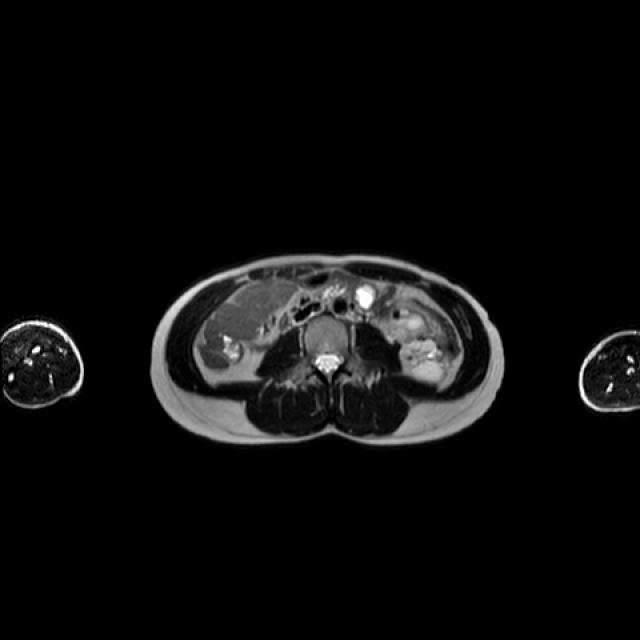sol: (379, 308, 447, 386)
